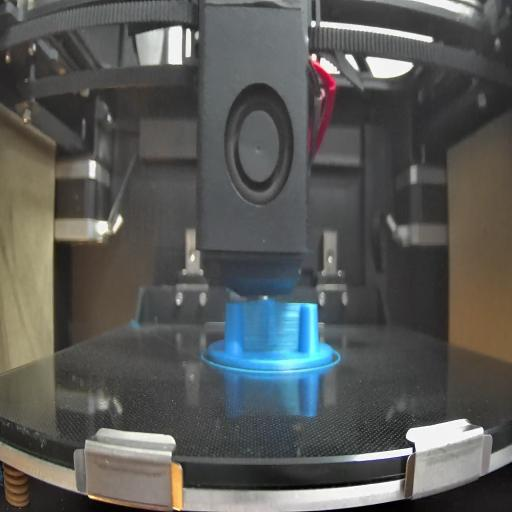stringing: (243, 302, 299, 350)
